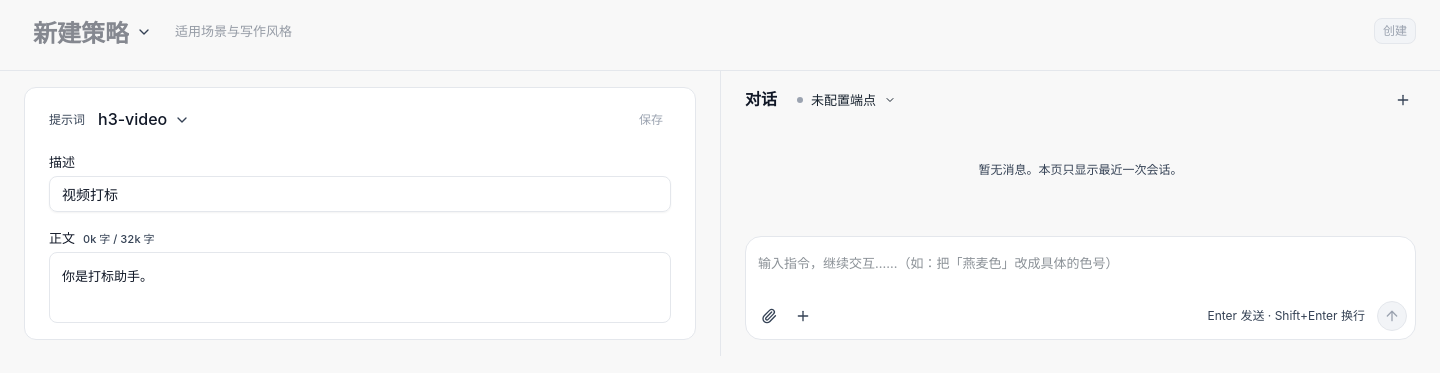
Scenario: PromptWorkbench › 策略应用失败（取提示词报错）保留原提示词并允许重试
Expected: the field named "名称" holds "h3-video", [93,104,196,136]
Click the button named "切换策略".
click(144, 32)  # box [132,20,156,44]
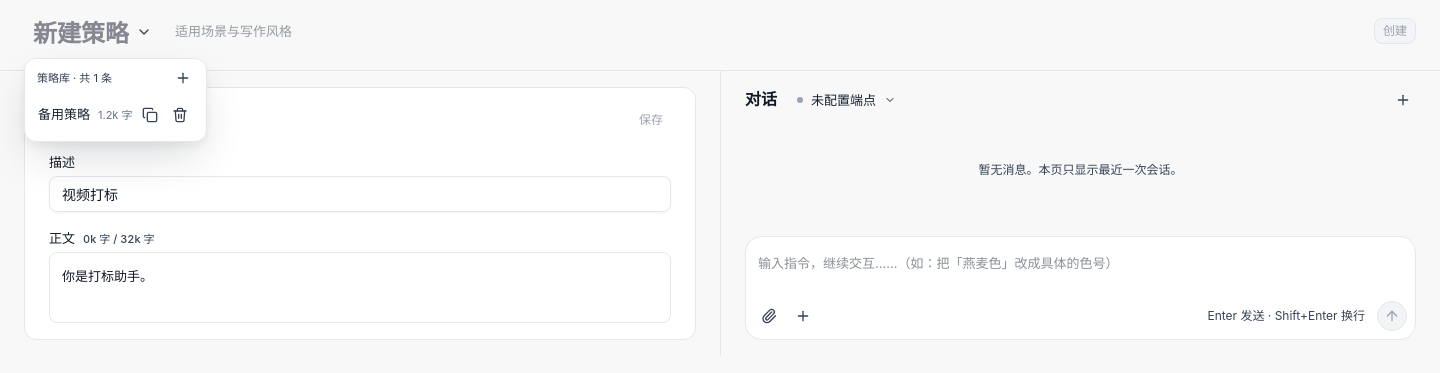
Click the menu item "备用策略 1.2k 字".
click(115, 115)  # box [38,102,192,128]
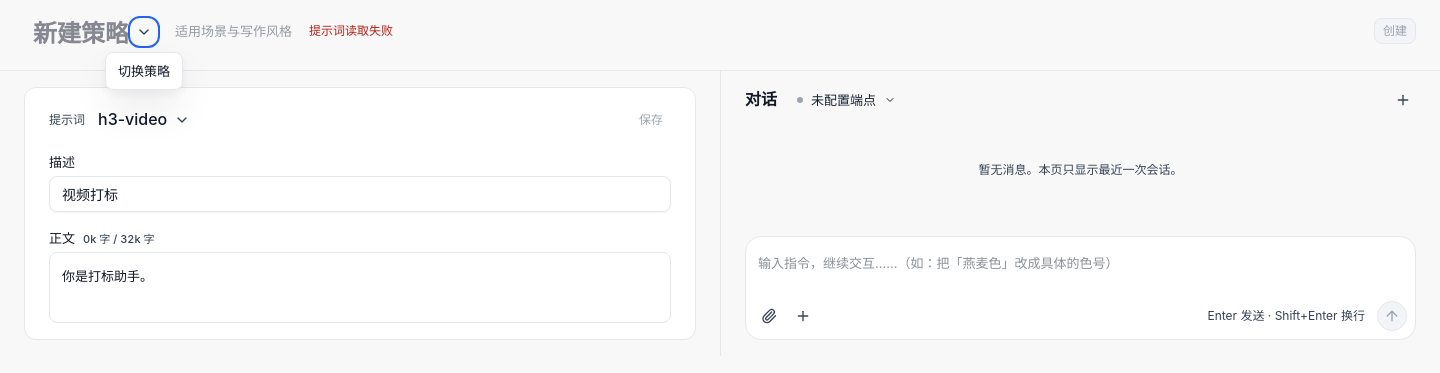
Expected: the field named "名称" holds "h3-video", [93,104,196,136]
Expected: the text "提示词读取失败" is shown, [309,23,393,38]
